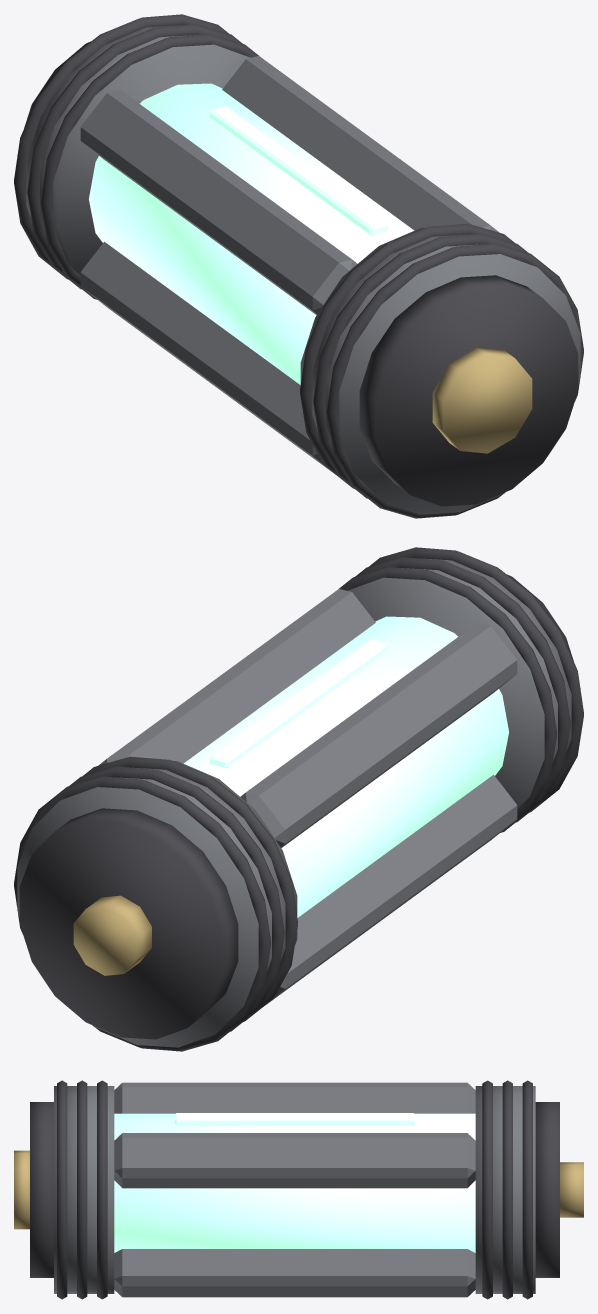
The model's file is plasma_cell.glb.
The picture shows the model from 3 angles, top to bottom: view 1: azimuth 30°, elevation 25°; view 2: azimuth 150°, elevation 25°; view 3: azimuth 270°, elevation 25°; orthographic projection. The views are drawn at different scales.
Parts seen in each view (by area): view 1: PlasmaCell; view 2: PlasmaCell; view 3: PlasmaCell.
Part boxes in pixels (bbox=[...]): PlasmaCell: bbox=[14, 14, 583, 518]; PlasmaCell: bbox=[14, 547, 583, 1051]; PlasmaCell: bbox=[14, 1080, 583, 1299].
Bounding box in the file's own units: 0.055 × 0.055 × 0.142.
